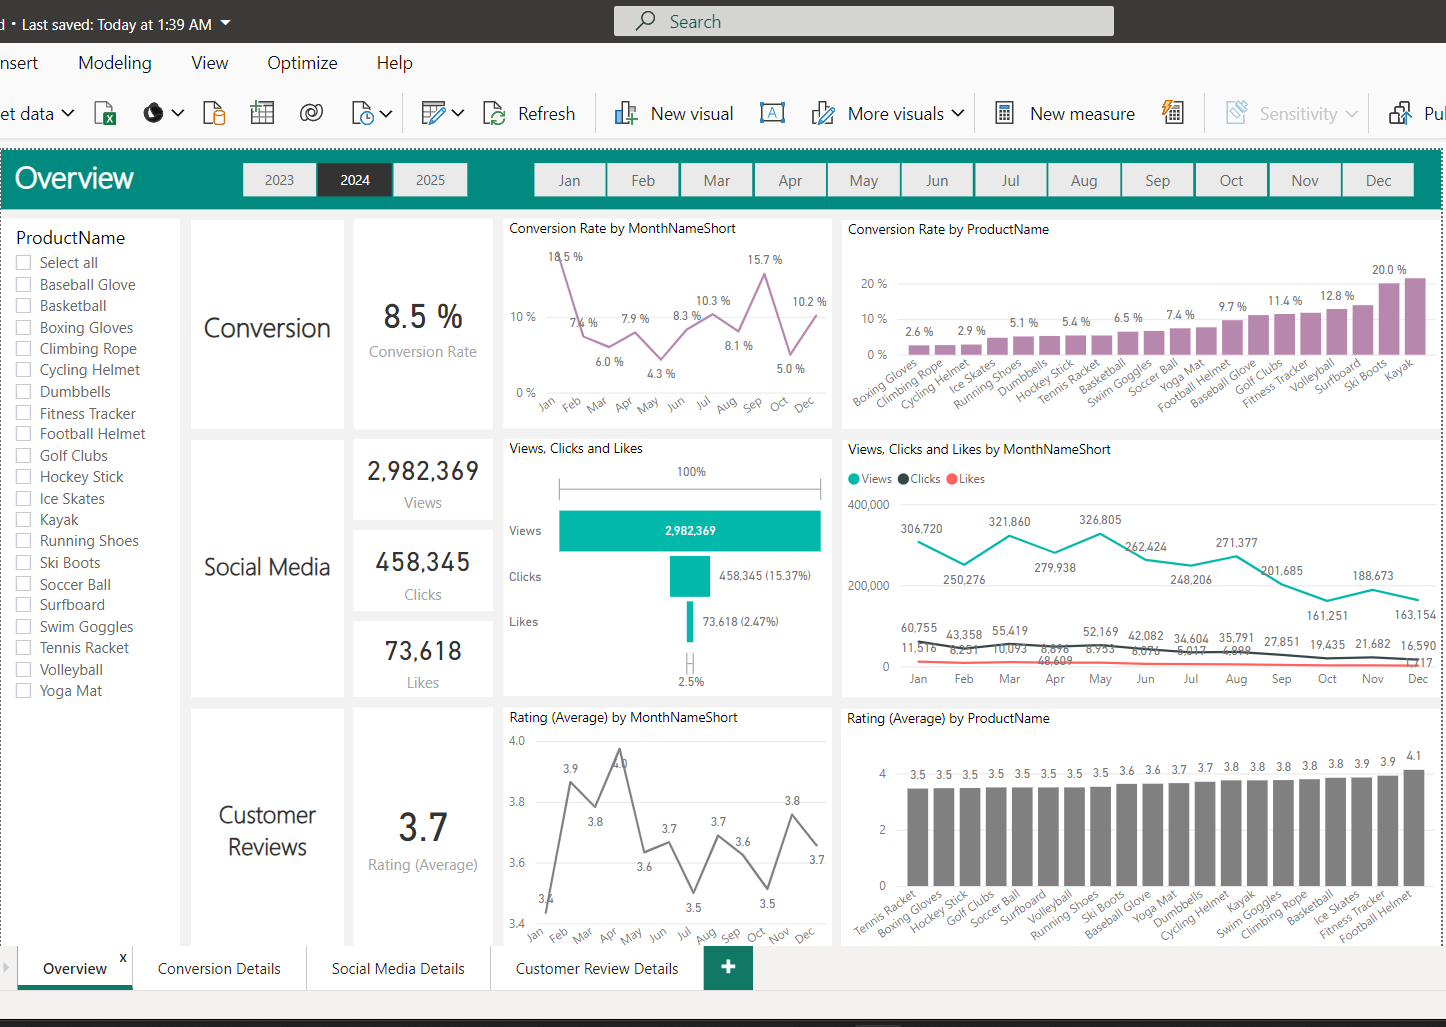

The page's visual inventory and layout, read from the dashboard file:
{"tool":"powerbi","page":{"name":"Overview","canvas":[1280,720],"ordinal":0},"visuals":[{"type":"textbox","box":[0,0,1280,52.6],"z":0},{"type":"slicer","fields":{"Values":["dim_products.ProductName"]},"box":[0,61.1,159,659.1],"z":1000},{"type":"card","fields":{"Values":["_Calculations.Conversion Rate"]},"box":[313.4,61,123.9,186.8],"z":2000},{"type":"card","fields":{"Values":["_Calculations.Rating (Average)"]},"box":[313.4,495.5,123.9,224],"z":3000},{"type":"lineChart","fields":{"Y":["_Calculations.Conversion Rate"],"Category":["Calendar.MonthNameShort"]},"box":[446.4,60.9,292.3,186.7],"z":4000},{"type":"columnChart","fields":{"Category":["dim_products.ProductName"],"Y":["_Calculations.Conversion Rate"]},"box":[747.2,62.4,525.8,185.9],"z":5000},{"type":"slicer","fields":{"Values":["Calendar.Year"]},"box":[189.4,4.6,249.5,43.7],"z":6000},{"type":"slicer","fields":{"Values":["Calendar.MonthNameShort"]},"box":[448,4.6,832.3,43.7],"z":7000},{"type":"lineChart","fields":{"Y":["_Calculations.Views","_Calculations.Clicks","_Calculations.Likes"],"Category":["Calendar.MonthNameShort"]},"box":[747.2,258,525.8,228.7],"z":8000},{"type":"lineChart","fields":{"Category":["Calendar.MonthNameShort"],"Y":["_Calculations.Rating (Average)"]},"box":[446.4,495.3,292.3,224],"z":9000},{"type":"columnChart","fields":{"Category":["dim_products.ProductName"],"Y":["_Calculations.Rating (Average)"]},"box":[747.2,496.5,533.2,223.8],"z":10000},{"type":"funnel","fields":{"Y":["_Calculations.Views","_Calculations.Clicks","_Calculations.Likes"]},"box":[446.5,257.1,292.1,229.2],"z":11000},{"type":"card","fields":{"Values":["_Calculations.Views"]},"box":[313.4,256.7,123.8,71.9],"z":12000},{"type":"textbox","box":[168.8,62.4,135.7,185.9],"z":13000},{"type":"textbox","box":[168.8,258,135.7,228.7],"z":14000},{"type":"textbox","box":[168.8,496.5,135.7,223.8],"z":15000},{"type":"card","fields":{"Values":["_Calculations.Clicks"]},"box":[313.4,337.8,123.8,71.9],"z":16000},{"type":"card","fields":{"Values":["_Calculations.Likes"]},"box":[313.4,418.8,123.8,67.4],"z":17000}]}

Visuals, with their boxes on the page's 1280x720 design canvas (x1, y1, x2, y2). These are canvas units, not pixel positions in the 1446x1027 screenshot, which may show the page scaled, cropped or inside an application window:
textbox: locate(0, 0, 1280, 53)
slicer - dim_products.ProductName: locate(0, 61, 159, 720)
card - _Calculations.Conversion Rate: locate(313, 61, 437, 248)
card - _Calculations.Rating (Average): locate(313, 496, 437, 720)
lineChart - _Calculations.Conversion Rate x Calendar.MonthNameShort: locate(446, 61, 739, 248)
columnChart - dim_products.ProductName x _Calculations.Conversion Rate: locate(747, 62, 1273, 248)
slicer - Calendar.Year: locate(189, 5, 439, 48)
slicer - Calendar.MonthNameShort: locate(448, 5, 1280, 48)
lineChart - _Calculations.Views x _Calculations.Clicks: locate(747, 258, 1273, 487)
lineChart - Calendar.MonthNameShort x _Calculations.Rating (Average): locate(446, 495, 739, 719)
columnChart - dim_products.ProductName x _Calculations.Rating (Average): locate(747, 496, 1280, 720)
funnel - _Calculations.Views x _Calculations.Clicks: locate(446, 257, 739, 486)
card - _Calculations.Views: locate(313, 257, 437, 329)
textbox: locate(169, 62, 304, 248)
textbox: locate(169, 258, 304, 487)
textbox: locate(169, 496, 304, 720)
card - _Calculations.Clicks: locate(313, 338, 437, 410)
card - _Calculations.Likes: locate(313, 419, 437, 486)
